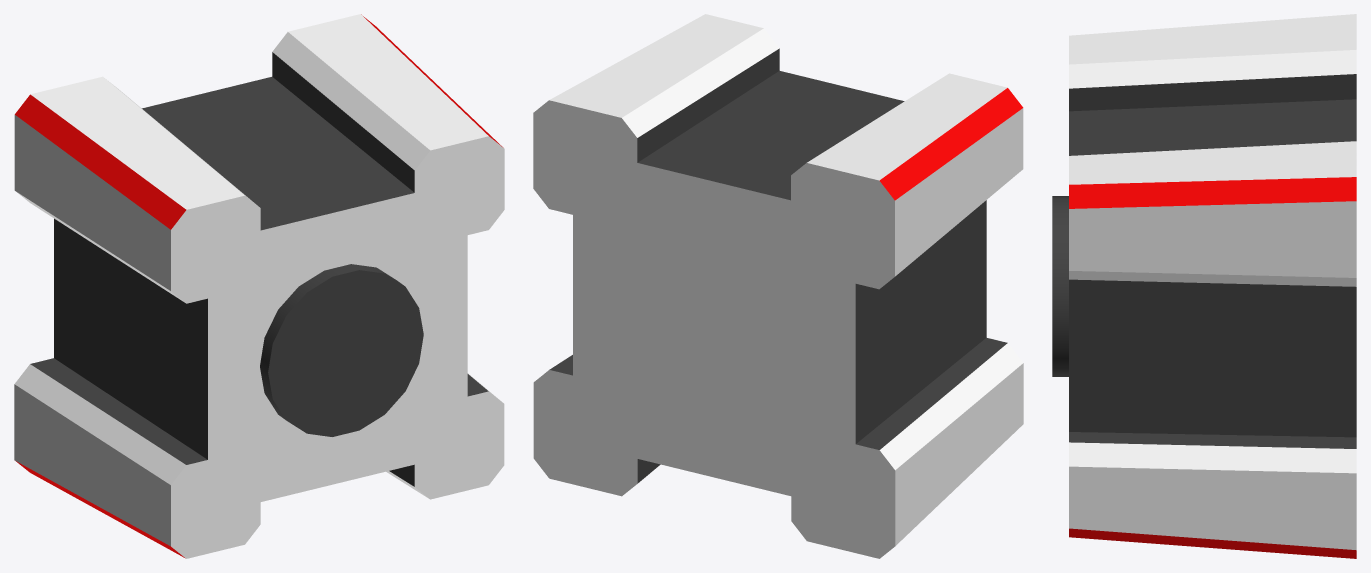
The model's file is tower.obj.
The picture shows the model from 3 angles, left to right: view 1: azimuth 30°, elevation 25°; view 2: azimuth 150°, elevation 25°; view 3: azimuth 270°, elevation 25°; orthographic projection.
Parts seen in each view (by area): view 1: Box003, Box007, Box006, Box004, Cylinder026, Box005; view 2: Box003, Box007, Box004, Box006, Box005; view 3: Box003, Box004, Box005, Box007, Cylinder026.
Part boxes in pixels (x1,y1,x2,y2): Box003: (54, 77, 467, 513); Box007: (14, 76, 260, 303); Box006: (14, 358, 260, 558); Box004: (272, 14, 504, 235); Cylinder026: (260, 264, 423, 436); Box005: (386, 373, 504, 499); Box003: (573, 70, 986, 511); Box007: (791, 73, 1023, 289); Box004: (533, 14, 779, 226); Box006: (791, 337, 1023, 558); Box005: (533, 355, 660, 496); Box003: (1069, 99, 1356, 437); Box004: (1069, 141, 1356, 286); Box005: (1069, 432, 1356, 558); Box007: (1069, 14, 1356, 111); Cylinder026: (1052, 196, 1068, 376).
Bounding box in the file's own units: 1.39 × 1.39 × 1.
